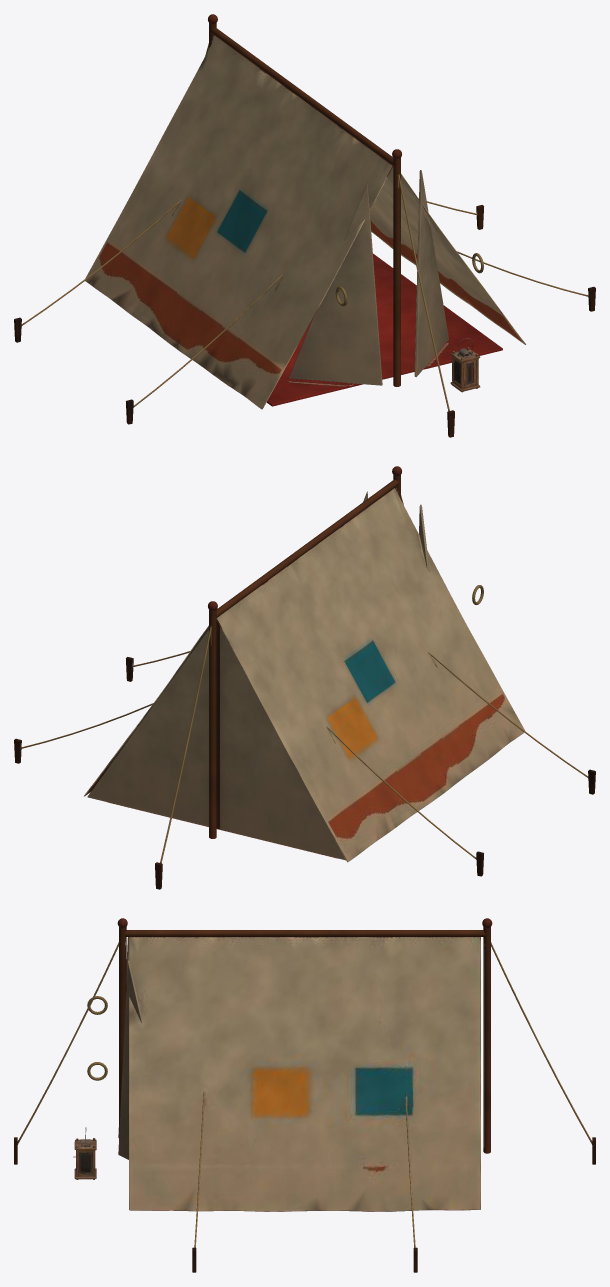
Rendered from fringer_tent.glb.
3 renders of one model, top to bottom at view 1: azimuth 30°, elevation 25°; view 2: azimuth 150°, elevation 25°; view 3: azimuth 270°, elevation 25°, orthographic.
Parts seen in each view (by area): view 1: fringer_tent; view 2: fringer_tent; view 3: fringer_tent.
Part boxes in pixels (<box>): fringer_tent: <box>14,14,595,437</box>; fringer_tent: <box>14,466,595,889</box>; fringer_tent: <box>14,918,595,1272</box>.
Bounding box in the file's own units: 4.26 × 2.15 × 4.63.
1 material, 1 textured.
